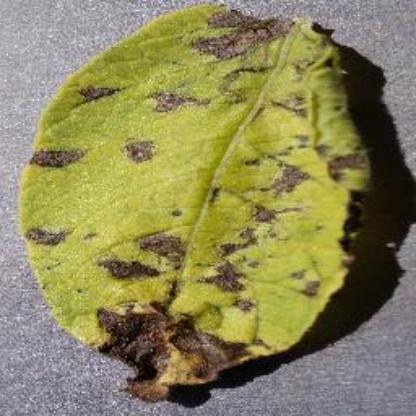Early-Blight: (18, 3, 378, 401)
